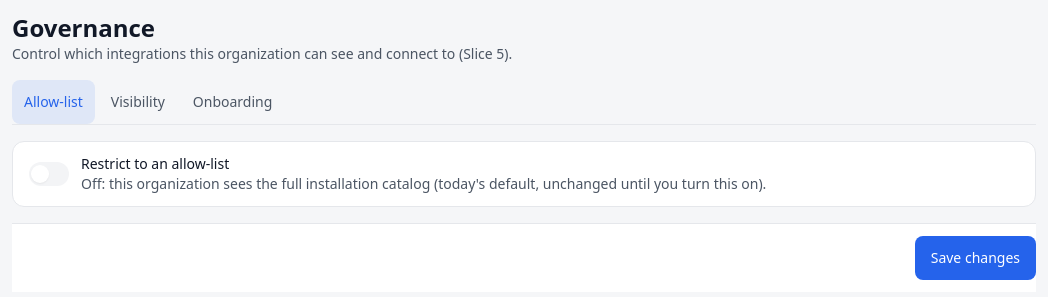
GovernancePage › shows an inline error message in the save bar and never navigates away when saving fails
Step 1. Click the button "Save changes" → (975, 258), box [915,236,1036,280]
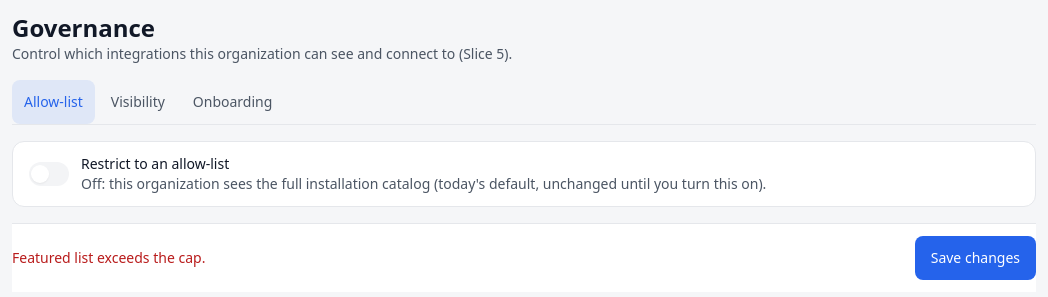
Expected: the text "Featured list exceeds the cap." is shown, [12,248,205,267]
